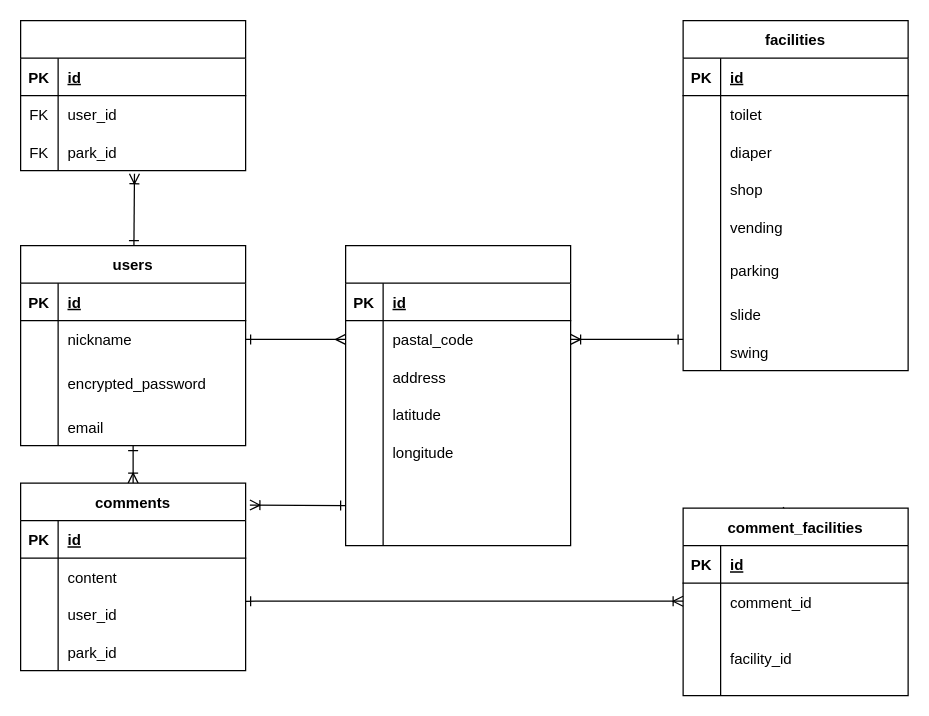
This 929x716 diagram has some shape labels left out. The shapes that lost their labels are listed below. From the top down, each one's box as (x1, y1, x2, y2) in pixels, then its label:
(19, 19, 246, 171): favorites
(344, 244, 571, 546): parks
